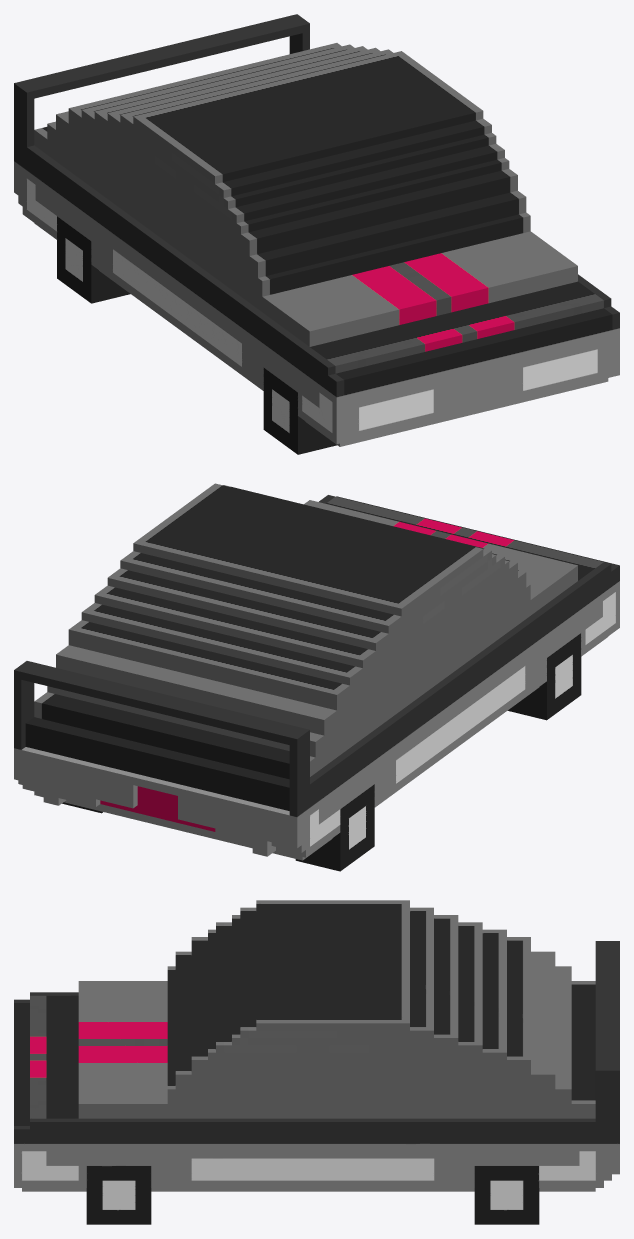
The model's file is Character_14.fbx.
3 renders of one model, top to bottom at view 1: azimuth 30°, elevation 25°; view 2: azimuth 150°, elevation 25°; view 3: azimuth 270°, elevation 25°, orthographic. The views are drawn at different scales.
Visible parts, largest first — view 1: Character_14; view 2: Character_14; view 3: Character_14.
Part boxes in pixels (bbox=[...]): Character_14: bbox=[14, 14, 619, 454]; Character_14: bbox=[14, 483, 619, 871]; Character_14: bbox=[14, 900, 619, 1224].
Size of the model in its own units: 38 by 27 by 75.
